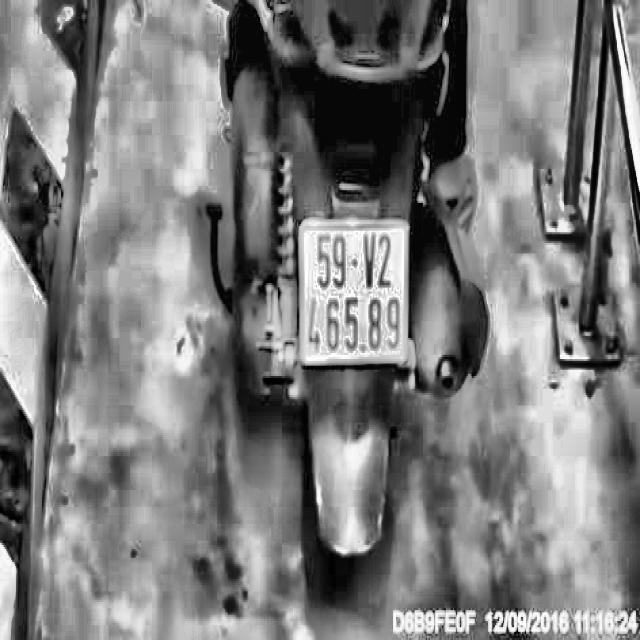plate: (294, 210, 412, 374)
